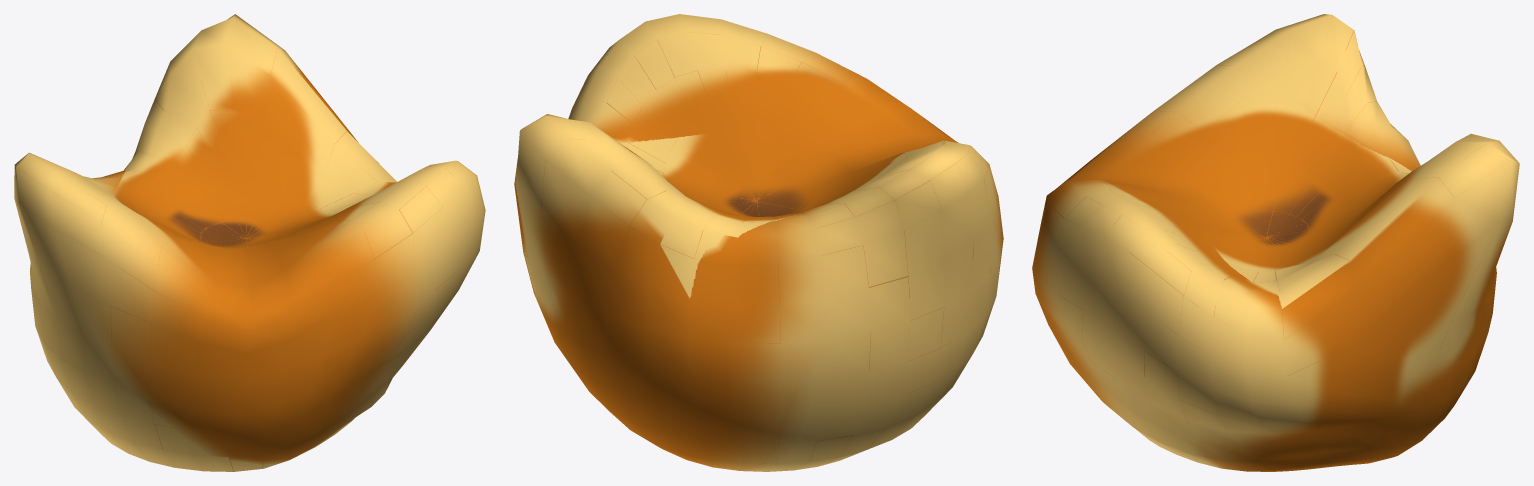
The model's file is popcorn.fbx.
The picture shows the model from 3 angles, left to right: view 1: azimuth 30°, elevation 25°; view 2: azimuth 150°, elevation 25°; view 3: azimuth 270°, elevation 25°; orthographic projection. The views are drawn at different scales.
Visible parts, largest first — view 1: #popcorn; view 2: #popcorn; view 3: #popcorn.
Part boxes in pixels (bbox=[...]): #popcorn: bbox=[14, 14, 485, 471]; #popcorn: bbox=[514, 14, 1003, 471]; #popcorn: bbox=[1032, 14, 1519, 471].
Bounding box in the file's own units: 220 × 173 × 209.
Materials: 1 (1 with a texture image).
